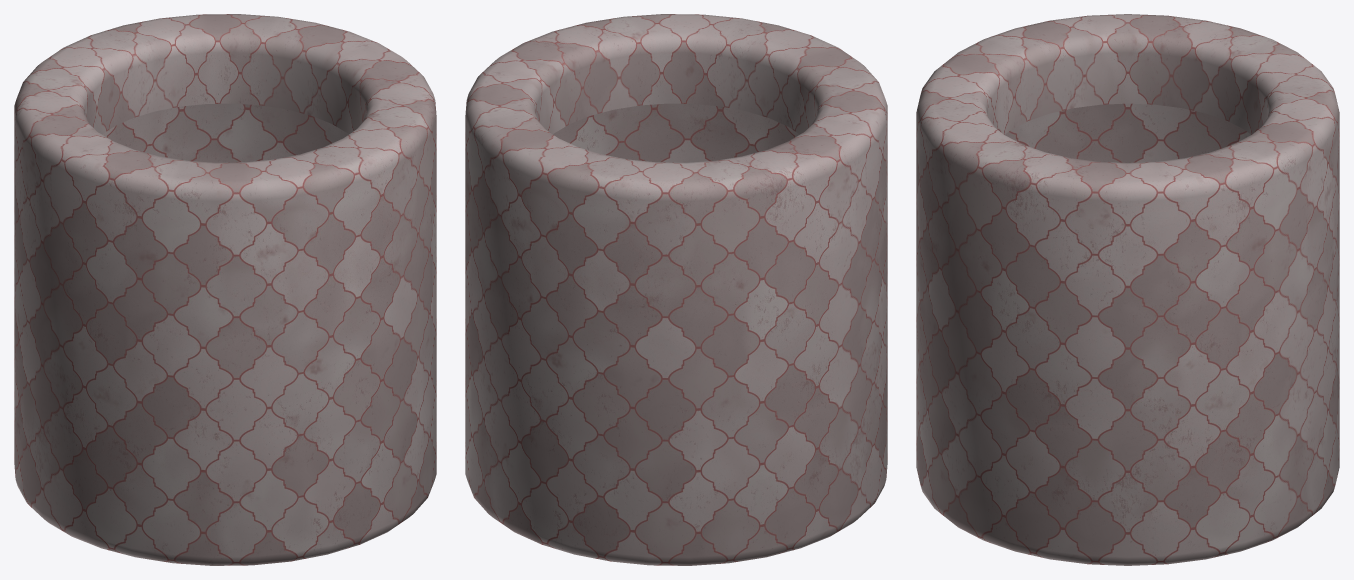
File: bathroom_floor_tile_pattern.glb
3 views of the same model, side by side, from view 1: azimuth 30°, elevation 25°; view 2: azimuth 150°, elevation 25°; view 3: azimuth 270°, elevation 25° (orthographic).
Visible parts, largest first — view 1: Cylinder; view 2: Cylinder; view 3: Cylinder.
Boxes of the visible parts, x1,y1,x2,y2 form: Cylinder: [14, 14, 436, 565]; Cylinder: [465, 14, 887, 565]; Cylinder: [916, 14, 1339, 565].
Bounding box in the file's own units: 4.22 × 4.22 × 4.22.
1 material, 1 textured.
